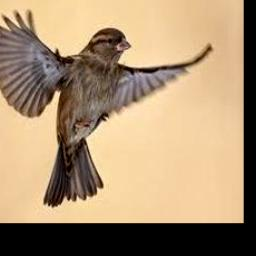Sparrow: (0, 10, 213, 207)
